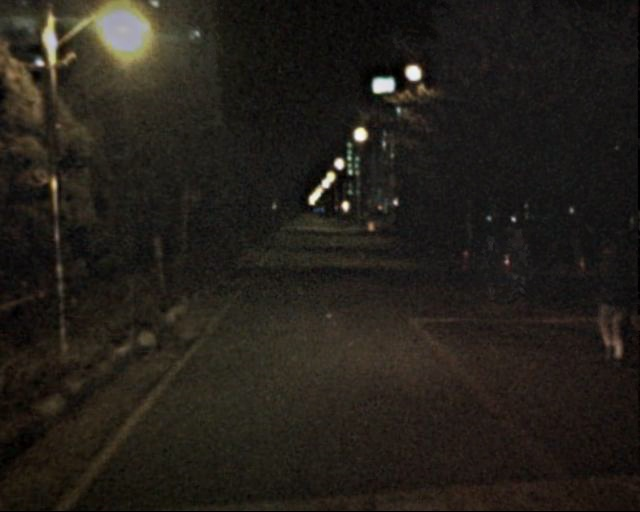person: (576, 231, 631, 369), (495, 221, 535, 313), (475, 230, 512, 307)
